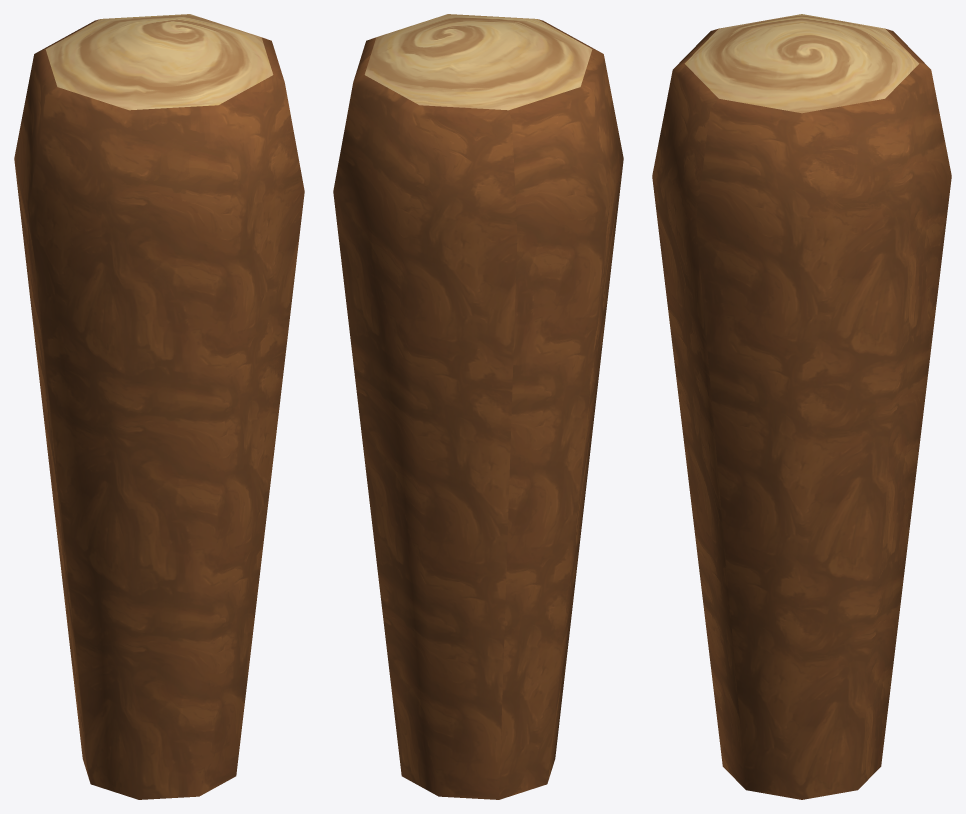
The model's file is Stump.fbx.
3 renders of one model, left to right at view 1: azimuth 30°, elevation 25°; view 2: azimuth 150°, elevation 25°; view 3: azimuth 270°, elevation 25°, orthographic.
Visible parts, largest first — view 1: polySurface1205; view 2: polySurface1205; view 3: polySurface1205.
Part boxes in pixels (x1,y1,x2,y2): polySurface1205: (14, 14, 304, 799); polySurface1205: (333, 14, 623, 799); polySurface1205: (652, 14, 951, 799).
Size of the model in its own units: 6.97 by 18.68 by 6.97.
